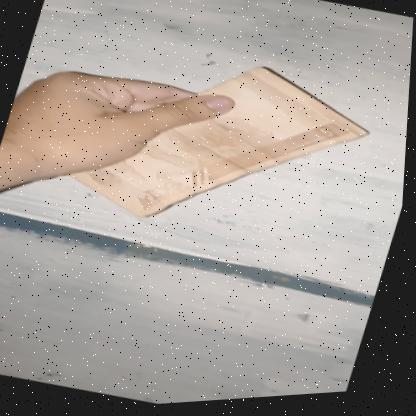five-back-vef: (61, 28, 386, 272)
